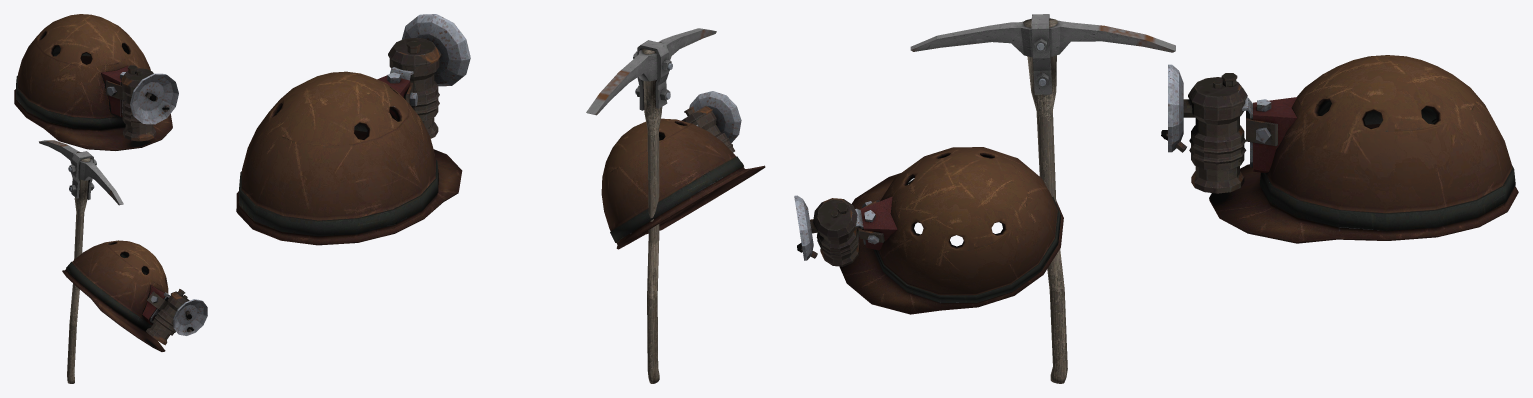
Rendered from MiningHelmet.glb.
3 renders of one model, left to right at view 1: azimuth 30°, elevation 25°; view 2: azimuth 150°, elevation 25°; view 3: azimuth 270°, elevation 25°, orthographic. The views are drawn at different scales.
Parts seen in each view (by area): view 1: WorldModel, mininghelmet, pickaxe; view 2: WorldModel, mininghelmet, pickaxe; view 3: WorldModel, mininghelmet, pickaxe.
Part boxes in pixels (x1,y1,x2,y2): WorldModel: (14,14,178,150); mininghelmet: (62,240,207,351); pickaxe: (39,140,123,383); WorldModel: (236,14,470,245); mininghelmet: (601,91,765,249); pickaxe: (586,28,716,383); WorldModel: (1161,55,1518,243); mininghelmet: (794,147,1063,314); pickaxe: (910,14,1175,383).
Size of the model in its own units: 0.7858 by 0.9452 by 1.51.
2 materials, 2 textured.
